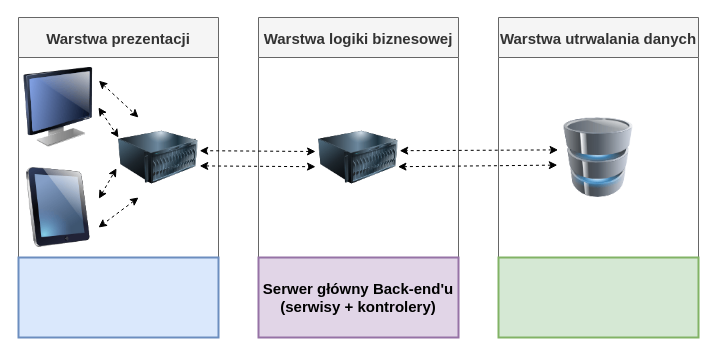
Some shapes in this 716 by 356 pixel diagram are drawn without their labels. Each missing label, with the centre of its shape:
Serwer główny bazy danych (repozytoria): the point at 598,297
Serwer główny Front-end'u (widoki + interfejs): the point at 118,297
